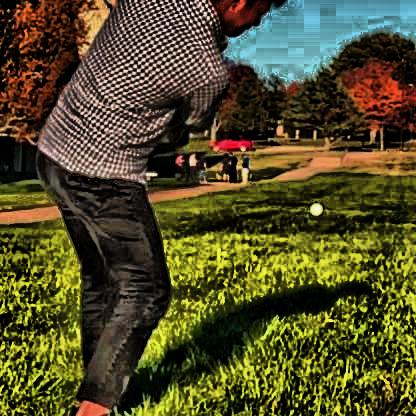golfball: (306, 200, 321, 214)
